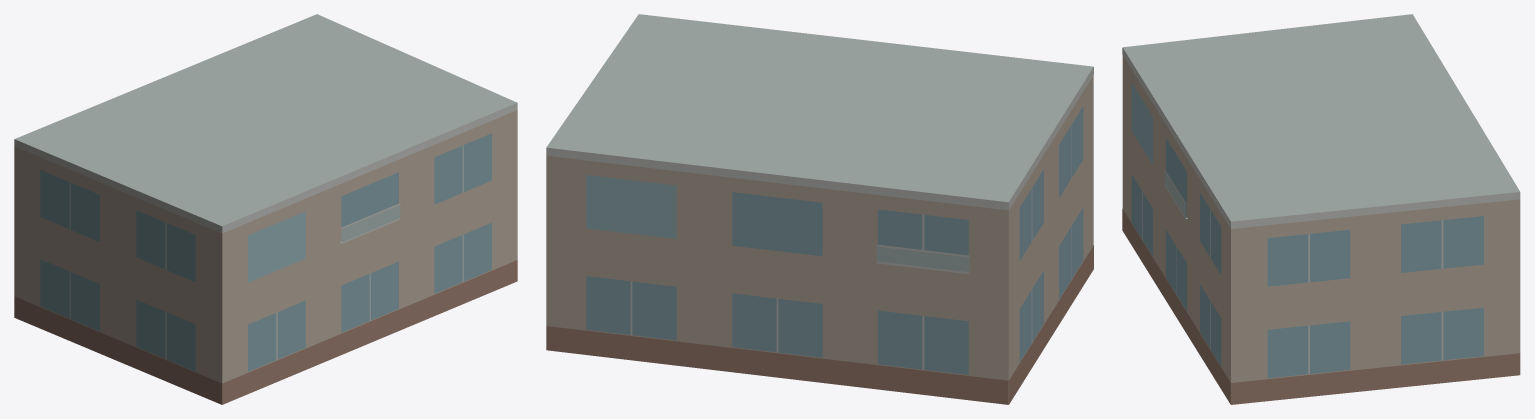
File: survey-upis-32717566.glb
3 views of the same model, side by side, from view 1: azimuth 30°, elevation 25°; view 2: azimuth 150°, elevation 25°; view 3: azimuth 270°, elevation 25° (orthographic). The views are drawn at different scales.
Parts seen in each view (by area): view 1: survey-upis-32717566.tmp; view 2: survey-upis-32717566.tmp; view 3: survey-upis-32717566.tmp.
Part boxes in pixels (box(x1,y1,x2,y2)): survey-upis-32717566.tmp: box(14, 14, 517, 404); survey-upis-32717566.tmp: box(546, 14, 1093, 404); survey-upis-32717566.tmp: box(1122, 14, 1520, 404).
Bounding box in the file's own units: 14.84 × 6.1 × 12.02.
